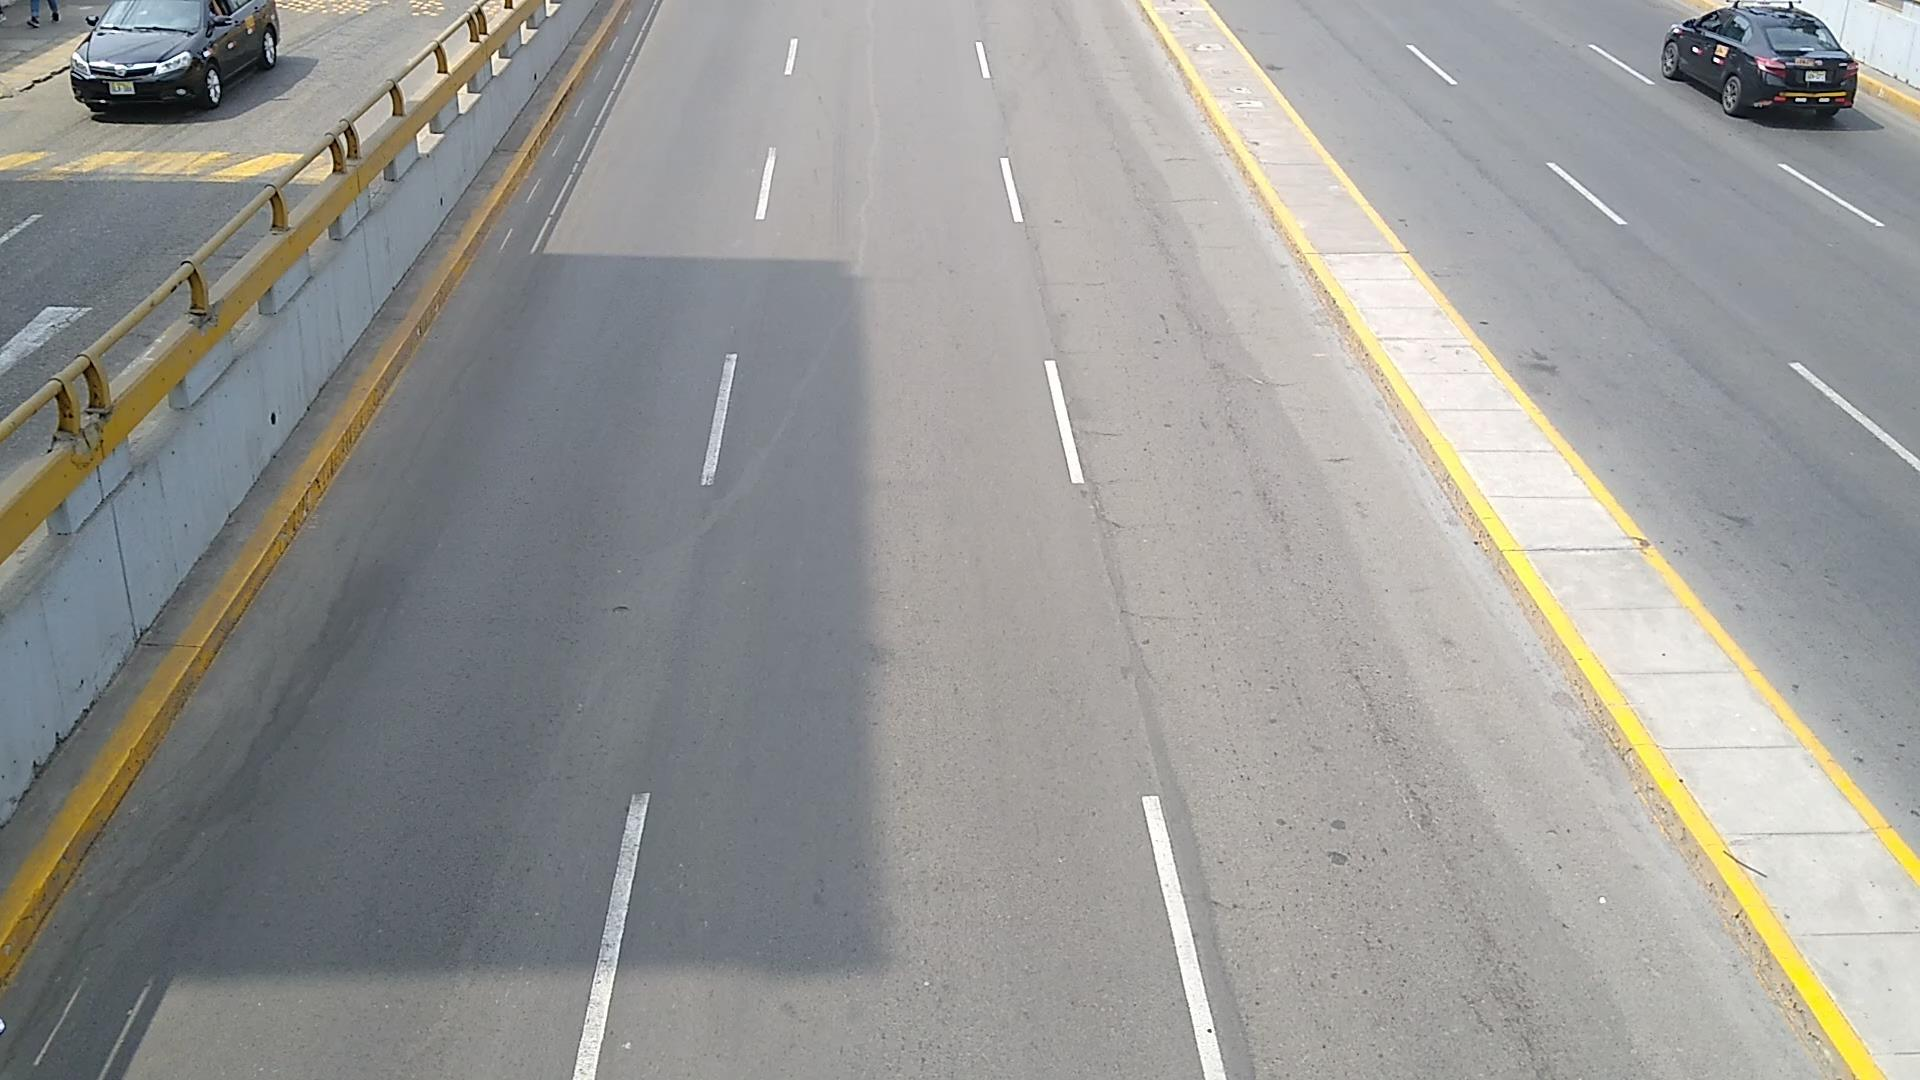car: (71, 0, 281, 112), (1662, 4, 1859, 116)
